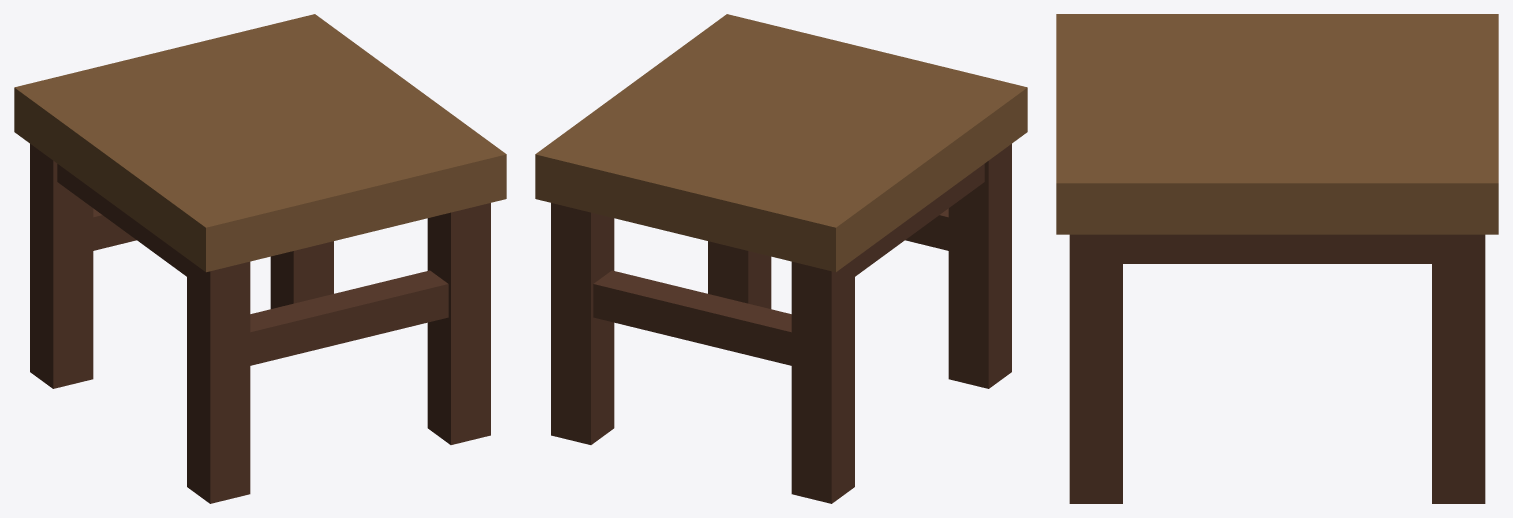
Rendered from Stool_3B.fbx.
The picture shows the model from 3 angles, left to right: view 1: azimuth 30°, elevation 25°; view 2: azimuth 150°, elevation 25°; view 3: azimuth 270°, elevation 25°; orthographic projection. The views are drawn at different scales.
Visible parts, largest first — view 1: polySurface1724; view 2: polySurface1724; view 3: polySurface1724.
Boxes of the visible parts, x1,y1,x2,y2 form: polySurface1724: [14, 14, 506, 503]; polySurface1724: [535, 14, 1027, 503]; polySurface1724: [1056, 14, 1498, 503].
Size of the model in its own units: 0.6 by 0.5392 by 0.6625.
1 material, 1 textured.
